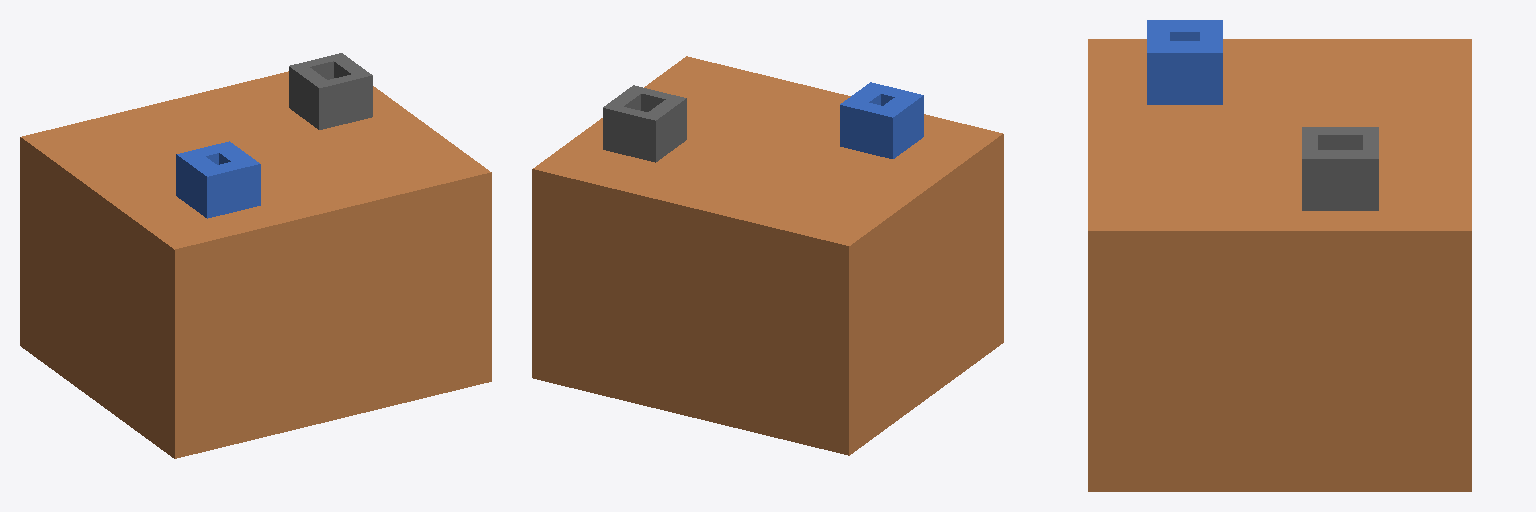
robot.urdf — peg_in_hole_fixtured_scene_0027_peg0015_tol03:
<?xml version="1.0"?>
<robot name="peg_in_hole_fixtured_scene_0027_peg0015_tol03">
  <material name="wood"><color rgba="0.82 0.56 0.35 1.0"/></material>
  <material name="start_fix"><color rgba="0.30 0.50 0.85 1.0"/></material>
  <material name="goal_fix"><color rgba="0.4706 0.4706 0.4706 1.0"/></material>
  <link name="box">
    <visual>
      <origin xyz="0.000000 0.000000 0.000000" rpy="0 0 0"/>
      <geometry><box size="0.475000 0.400000 0.300000"/></geometry>
      <material name="wood"/>
    </visual>
    <collision>
      <origin xyz="0.000000 0.000000 0.000000" rpy="0 0 0"/>
      <geometry><box size="0.475000 0.400000 0.300000"/></geometry>
    </collision>
    <visual>
      <origin xyz="-0.113494 -0.099024 0.155000" rpy="0 0 0"/>
      <geometry><box size="0.080000 0.080000 0.010000"/></geometry>
      <material name="start_fix"/>
    </visual>
    <collision>
      <origin xyz="-0.113494 -0.099024 0.155000" rpy="0 0 0"/>
      <geometry><box size="0.080000 0.080000 0.010000"/></geometry>
    </collision>
    <visual>
      <origin xyz="-0.088244 -0.099024 0.185000" rpy="0 0 0"/>
      <geometry><box size="0.029500 0.080000 0.050000"/></geometry>
      <material name="start_fix"/>
    </visual>
    <collision>
      <origin xyz="-0.088244 -0.099024 0.185000" rpy="0 0 0"/>
      <geometry><box size="0.029500 0.080000 0.050000"/></geometry>
    </collision>
    <visual>
      <origin xyz="-0.138744 -0.099024 0.185000" rpy="0 0 0"/>
      <geometry><box size="0.029500 0.080000 0.050000"/></geometry>
      <material name="start_fix"/>
    </visual>
    <collision>
      <origin xyz="-0.138744 -0.099024 0.185000" rpy="0 0 0"/>
      <geometry><box size="0.029500 0.080000 0.050000"/></geometry>
    </collision>
    <visual>
      <origin xyz="-0.113494 -0.071274 0.185000" rpy="0 0 0"/>
      <geometry><box size="0.021000 0.024500 0.050000"/></geometry>
      <material name="start_fix"/>
    </visual>
    <collision>
      <origin xyz="-0.113494 -0.071274 0.185000" rpy="0 0 0"/>
      <geometry><box size="0.021000 0.024500 0.050000"/></geometry>
    </collision>
    <visual>
      <origin xyz="-0.113494 -0.126774 0.185000" rpy="0 0 0"/>
      <geometry><box size="0.021000 0.024500 0.050000"/></geometry>
      <material name="start_fix"/>
    </visual>
    <collision>
      <origin xyz="-0.113494 -0.126774 0.185000" rpy="0 0 0"/>
      <geometry><box size="0.021000 0.024500 0.050000"/></geometry>
    </collision>
    <visual>
      <origin xyz="0.148422 0.063166 0.155000" rpy="0 0 0"/>
      <geometry><box size="0.080000 0.080000 0.010000"/></geometry>
      <material name="goal_fix"/>
    </visual>
    <collision>
      <origin xyz="0.148422 0.063166 0.155000" rpy="0 0 0"/>
      <geometry><box size="0.080000 0.080000 0.010000"/></geometry>
    </collision>
    <visual>
      <origin xyz="0.177528 0.063166 0.185000" rpy="0 0 0"/>
      <geometry><box size="0.021789 0.080000 0.050000"/></geometry>
      <material name="goal_fix"/>
    </visual>
    <collision>
      <origin xyz="0.177528 0.063166 0.185000" rpy="0 0 0"/>
      <geometry><box size="0.021789 0.080000 0.050000"/></geometry>
    </collision>
    <visual>
      <origin xyz="0.119317 0.063166 0.185000" rpy="0 0 0"/>
      <geometry><box size="0.021789 0.080000 0.050000"/></geometry>
      <material name="goal_fix"/>
    </visual>
    <collision>
      <origin xyz="0.119317 0.063166 0.185000" rpy="0 0 0"/>
      <geometry><box size="0.021789 0.080000 0.050000"/></geometry>
    </collision>
    <visual>
      <origin xyz="0.148422 0.094772 0.185000" rpy="0 0 0"/>
      <geometry><box size="0.036423 0.016789 0.050000"/></geometry>
      <material name="goal_fix"/>
    </visual>
    <collision>
      <origin xyz="0.148422 0.094772 0.185000" rpy="0 0 0"/>
      <geometry><box size="0.036423 0.016789 0.050000"/></geometry>
    </collision>
    <visual>
      <origin xyz="0.148422 0.031560 0.185000" rpy="0 0 0"/>
      <geometry><box size="0.036423 0.016789 0.050000"/></geometry>
      <material name="goal_fix"/>
    </visual>
    <collision>
      <origin xyz="0.148422 0.031560 0.185000" rpy="0 0 0"/>
      <geometry><box size="0.036423 0.016789 0.050000"/></geometry>
    </collision>
    <inertial>
      <mass value="500"/>
      <friction value="1.0"/>
      <inertia ixx="1000.0" ixy="0.0" ixz="0.0" iyy="1000.0" iyz="0.0" izz="1000.0"/>
    </inertial>
  </link>
</robot>

--- What the picture shows (computed from the rendered views, not written in the file) ---
The picture shows the robot from 3 angles, left to right: view 1: azimuth 30°, elevation 25°; view 2: azimuth 150°, elevation 25°; view 3: azimuth 270°, elevation 25°; orthographic projection.
Robot: peg_in_hole_fixtured_scene_0027_peg0015_tol03 — 1 links, 0 joints (none); root link box; default pose: every joint at zero.
Visible links, largest first — view 1: box; view 2: box; view 3: box.
Boxes of the visible links, x1=… form: box: x1=20, y1=53, x2=491, y2=458; box: x1=532, y1=56, x2=1003, y2=455; box: x1=1088, y1=20, x2=1471, y2=491.
Size in the robot's own frame: 0.475 by 0.4 by 0.36 metres.
Geometry: primitives only (box / cylinder / sphere), no mesh files.
